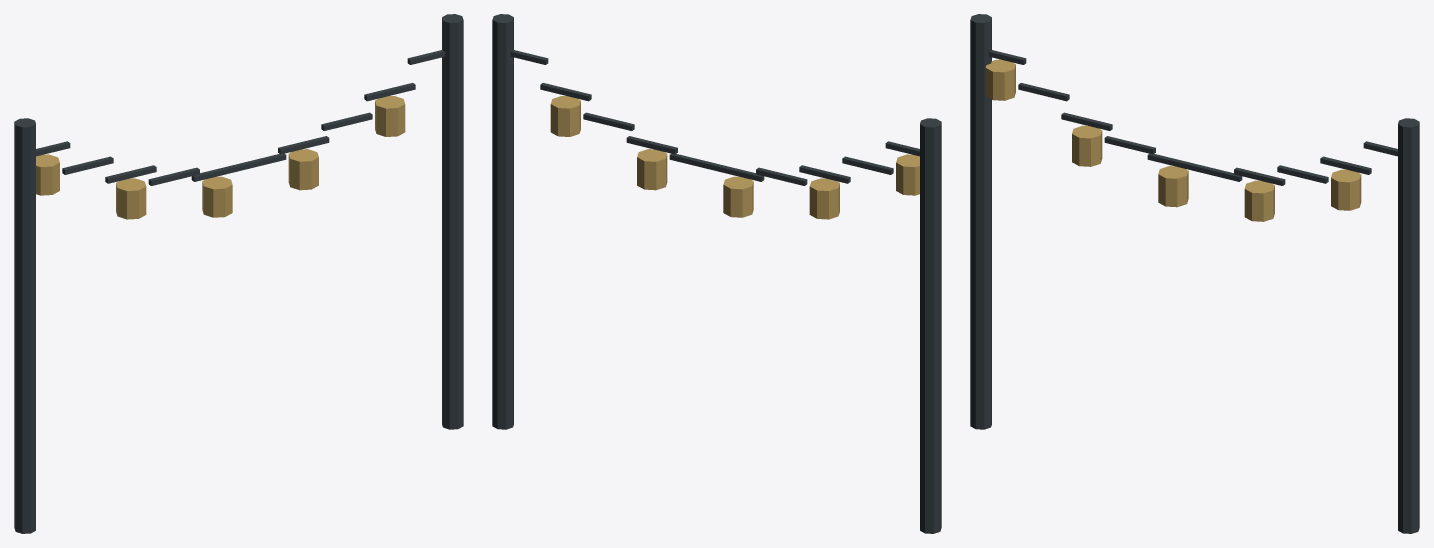
The model's file is string-lights.glb.
3 views of the same model, side by side, from view 1: azimuth 30°, elevation 25°; view 2: azimuth 150°, elevation 25°; view 3: azimuth 330°, elevation 25° (orthographic).
Parts seen in each view (by area): view 1: string-lights; view 2: string-lights; view 3: string-lights.
Part boxes in pixels (x1,y1,x2,y2): string-lights: (14,14,463,533); string-lights: (492,14,941,533); string-lights: (970,14,1419,533).
Bounding box in the file's own units: 1 × 0.8696 × 0.0609.
